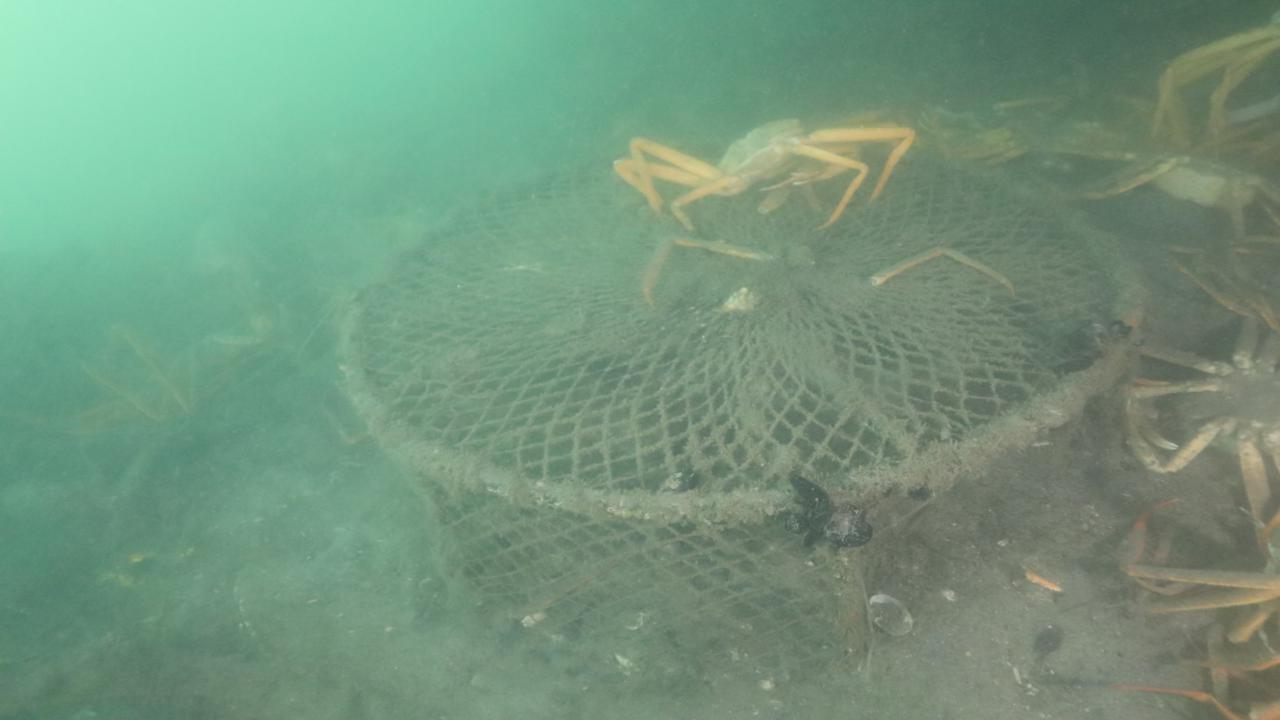circular fish trap: (335, 133, 1147, 681)
